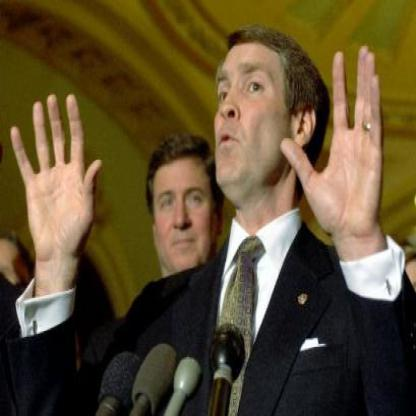face: (206, 31, 300, 206), (152, 142, 219, 277)
